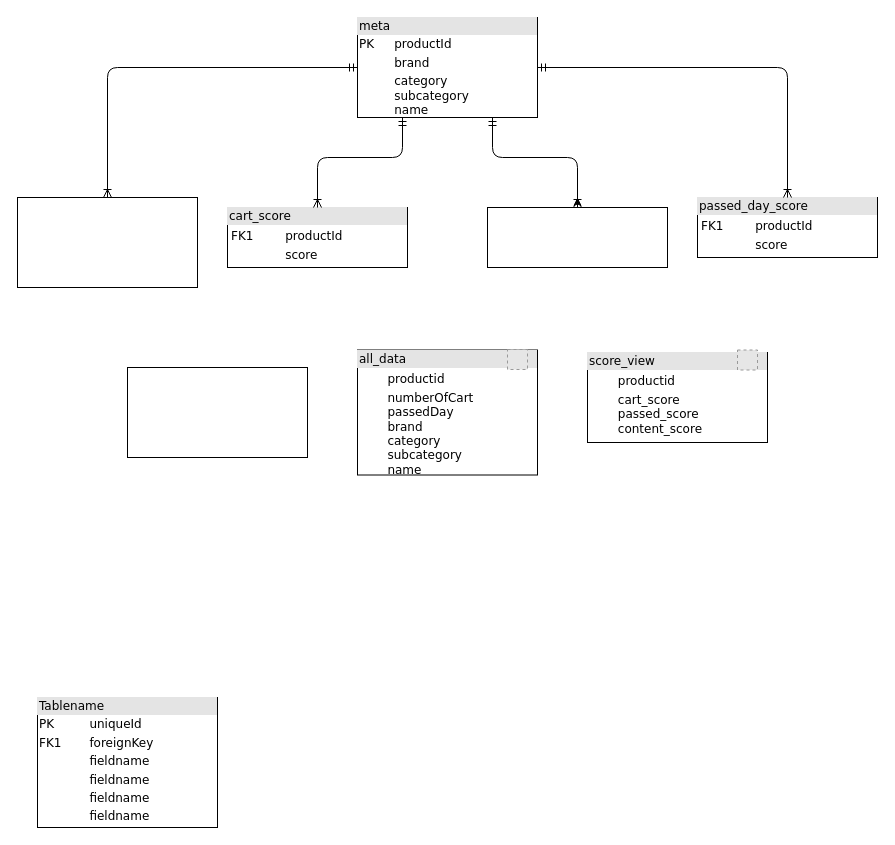
Some shapes in this 895 by 845 pixel diagram are drawn without their labels. Grey dashed boxes stand in for pictures. The centre of each missing label's shape, as x and y in pixels:
"content_score FK1 productId score" belongs at (577,237).
"event FK1 productId numberOfCart price passedDay" belongs at (107,242).
"log PK id level message logDatatime" belongs at (217,412).
